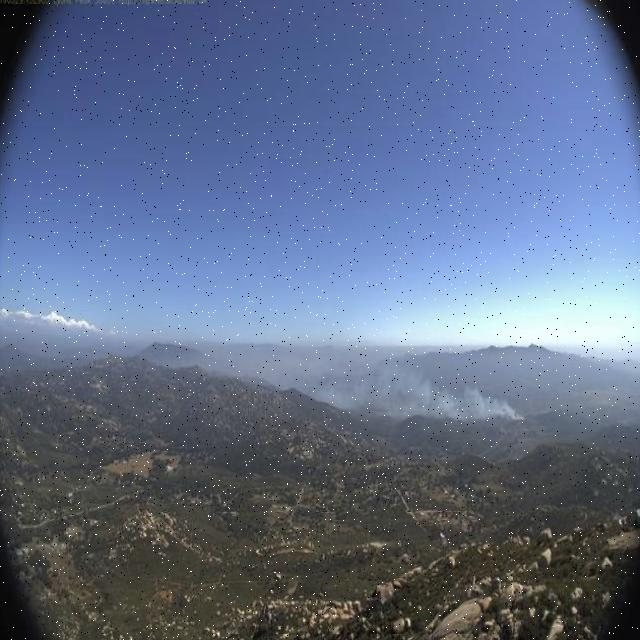smoke: (283, 356, 521, 425)
